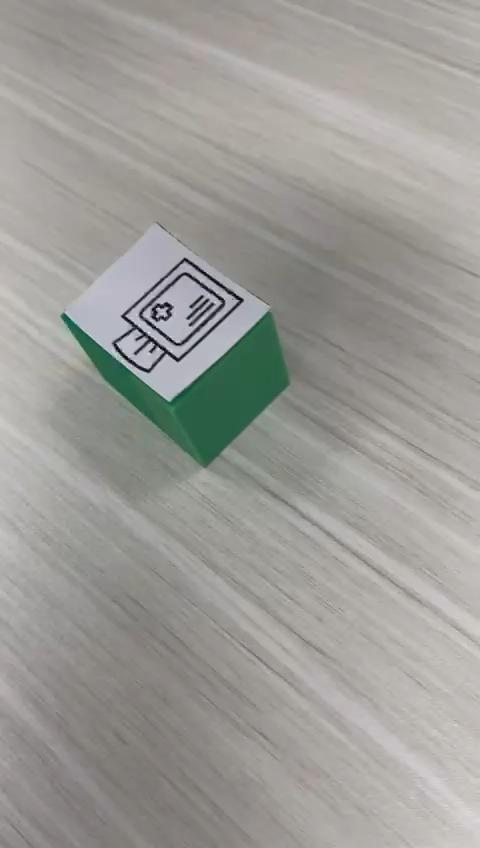Gauze: (60, 219, 291, 468)
